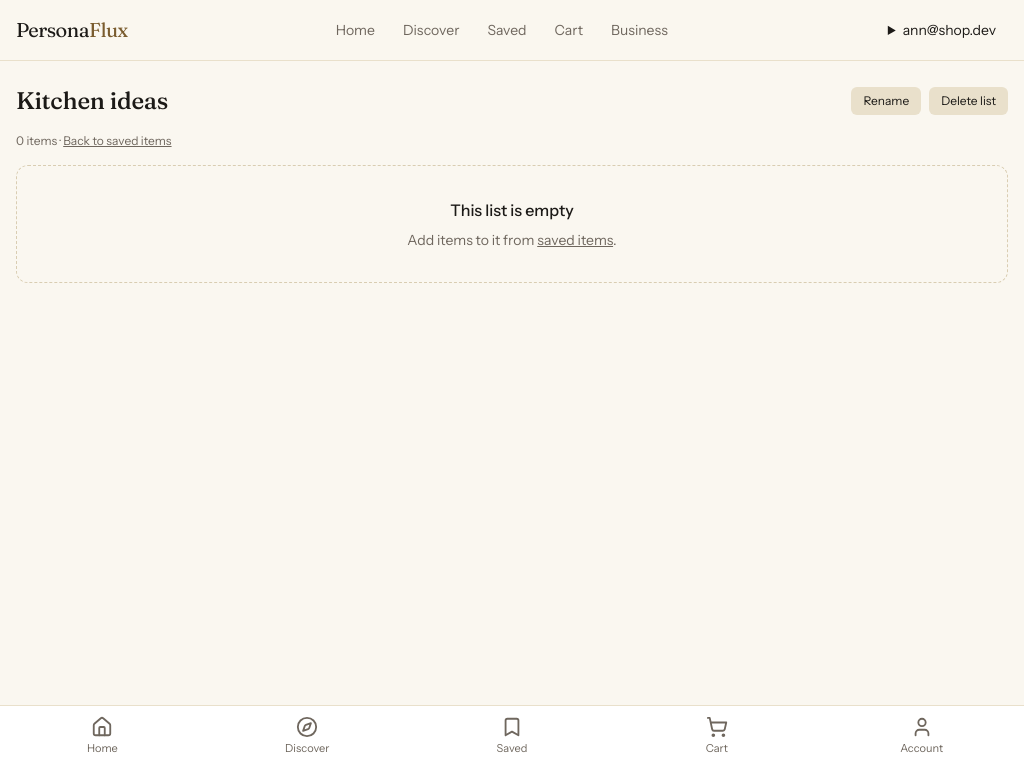
curated lists › deletes a list and returns to the saved items
The width and height of the screenshot is (1024, 768).
Click the button "Delete list" at point(969, 101), box [929,87,1008,115]
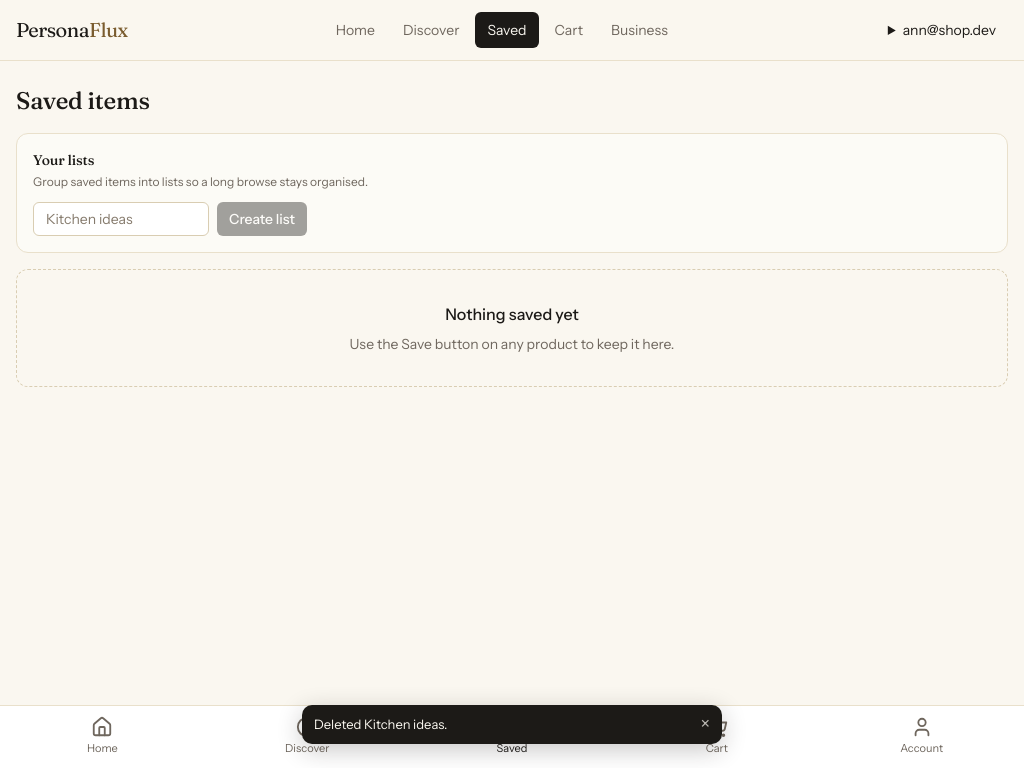
expect the heading "Saved items" is shown: met, box [16,86,150,115]
